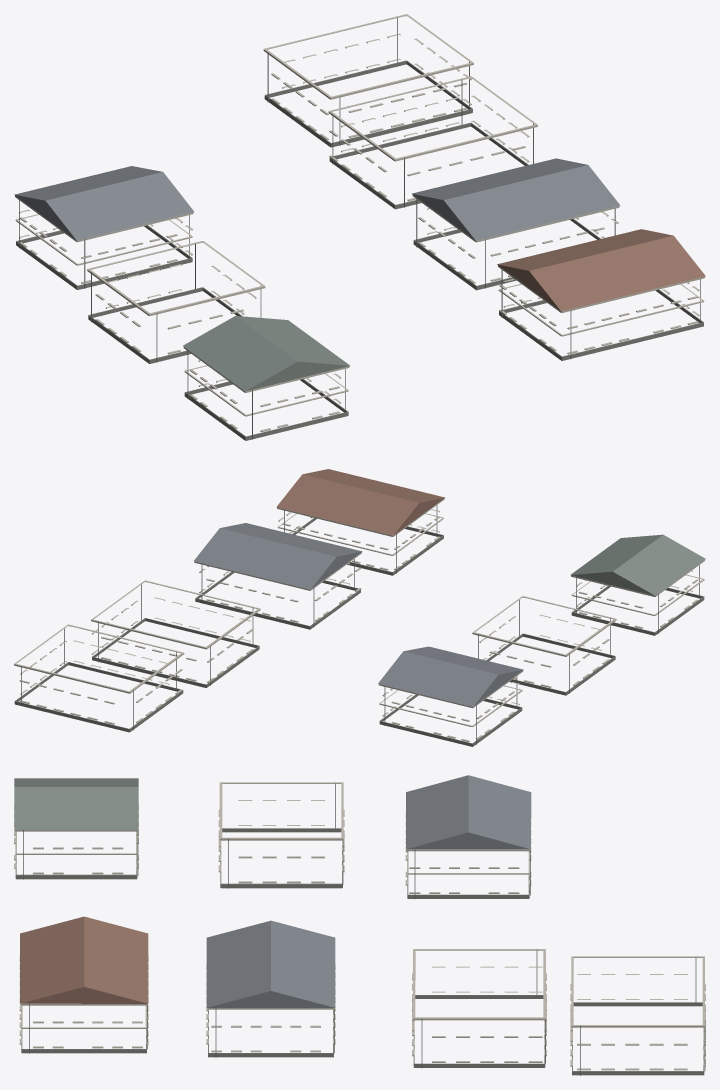
Rendered from district_-3_2.glb.
3 renders of one model, top to bottom at view 1: azimuth 30°, elevation 25°; view 2: azimuth 150°, elevation 25°; view 3: azimuth 270°, elevation 25°, orthographic. The views are drawn at different scales.
Visible parts, largest first — view 1: RoofMetal, MasonryTrim, MetalDetails; view 2: RoofMetal, MasonryTrim, MetalDetails; view 3: RoofMetal, MasonryTrim, MetalDetails.
Boxes of the visible parts, x1=… form: RoofMetal: x1=14, y1=158, x2=705, y2=391; MasonryTrim: x1=15, y1=14, x2=704, y2=440; MetalDetails: x1=19, y1=17, x2=700, y2=439; RoofMetal: x1=194, y1=469, x2=705, y2=706; MasonryTrim: x1=14, y1=498, x2=704, y2=746; MetalDetails: x1=21, y1=505, x2=699, y2=744; RoofMetal: x1=14, y1=775, x2=531, y2=1007; MasonryTrim: x1=14, y1=782, x2=705, y2=1075; MetalDetails: x1=23, y1=782, x2=705, y2=1075.
Bounding box in the file's own units: 79.95 × 10.1 × 94.37.
